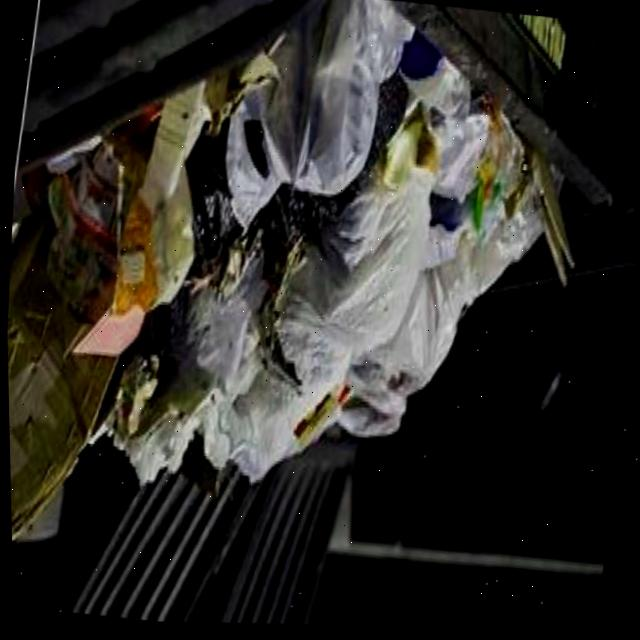Garbage: (5, 0, 572, 540)
Plastic: (114, 252, 267, 484), (113, 165, 193, 315), (225, 368, 314, 481)
Plastic_Bag: (338, 179, 539, 436), (225, 0, 411, 227), (278, 160, 432, 404), (183, 125, 285, 296)
Plastic_Container: (46, 143, 142, 355), (294, 385, 350, 448)
Plastic_bottle: (414, 112, 523, 204), (137, 83, 203, 215), (397, 35, 469, 121)
Rubber: (272, 71, 406, 244)
